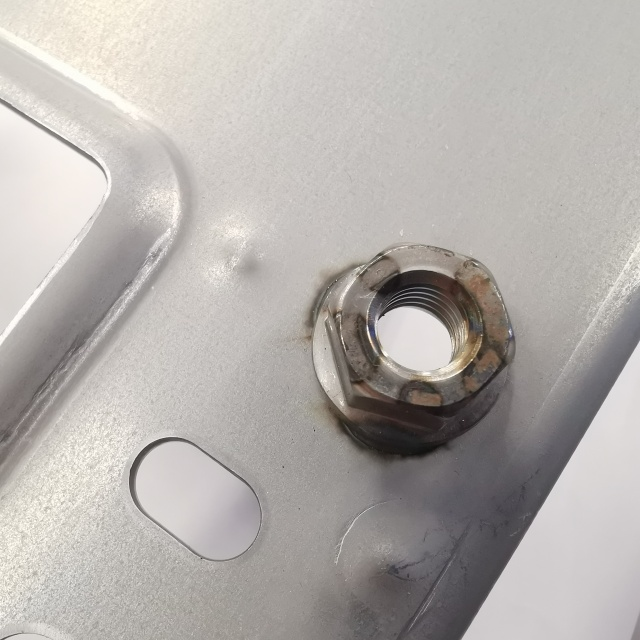dog: (302, 233, 523, 462)
